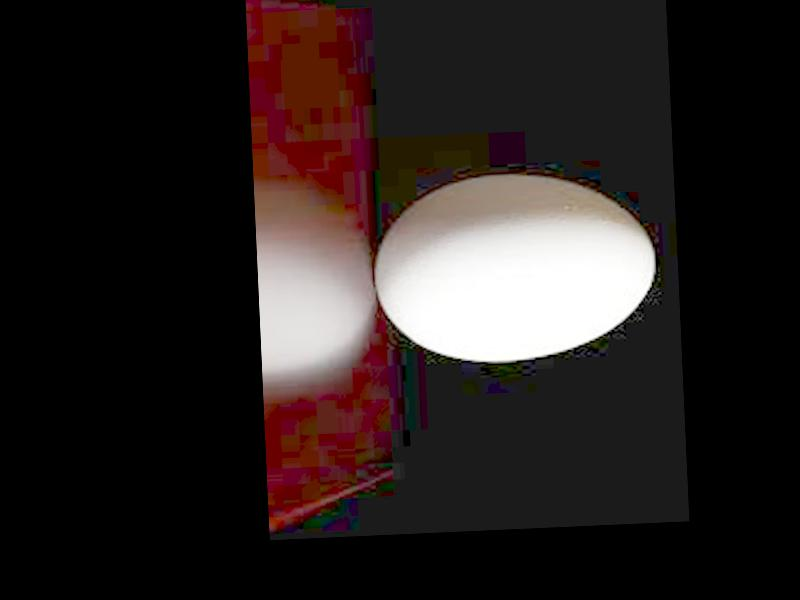Eggs: (370, 170, 658, 366)
